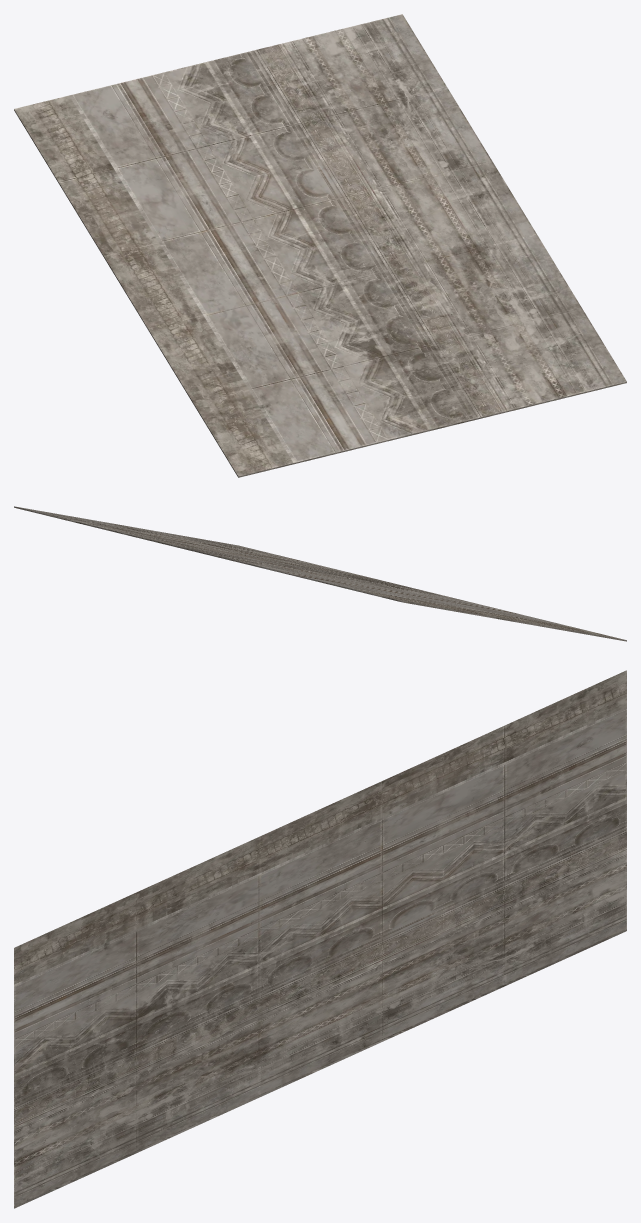
3 views of the same model, one above another, from view 1: azimuth 30°, elevation 25°; view 2: azimuth 150°, elevation 25°; view 3: azimuth 270°, elevation 25° (orthographic). The views are drawn at different scales.
Parts seen in each view (by area): view 1: SM_DungeonR_DungeonStairway_LOD0; view 2: SM_DungeonR_DungeonStairway_LOD0; view 3: SM_DungeonR_DungeonStairway_LOD0.
Part boxes in pixels (x1=…): SM_DungeonR_DungeonStairway_LOD0: x1=14, y1=14, x2=626, y2=477; SM_DungeonR_DungeonStairway_LOD0: x1=14, y1=506, x2=626, y2=641; SM_DungeonR_DungeonStairway_LOD0: x1=14, y1=670, x2=626, y2=1208.
Bounding box in the file's own units: 6 × 3.02 × 6.
Materials: 1 (1 with a texture image).
